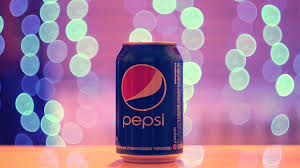can: (108, 37, 190, 166)
